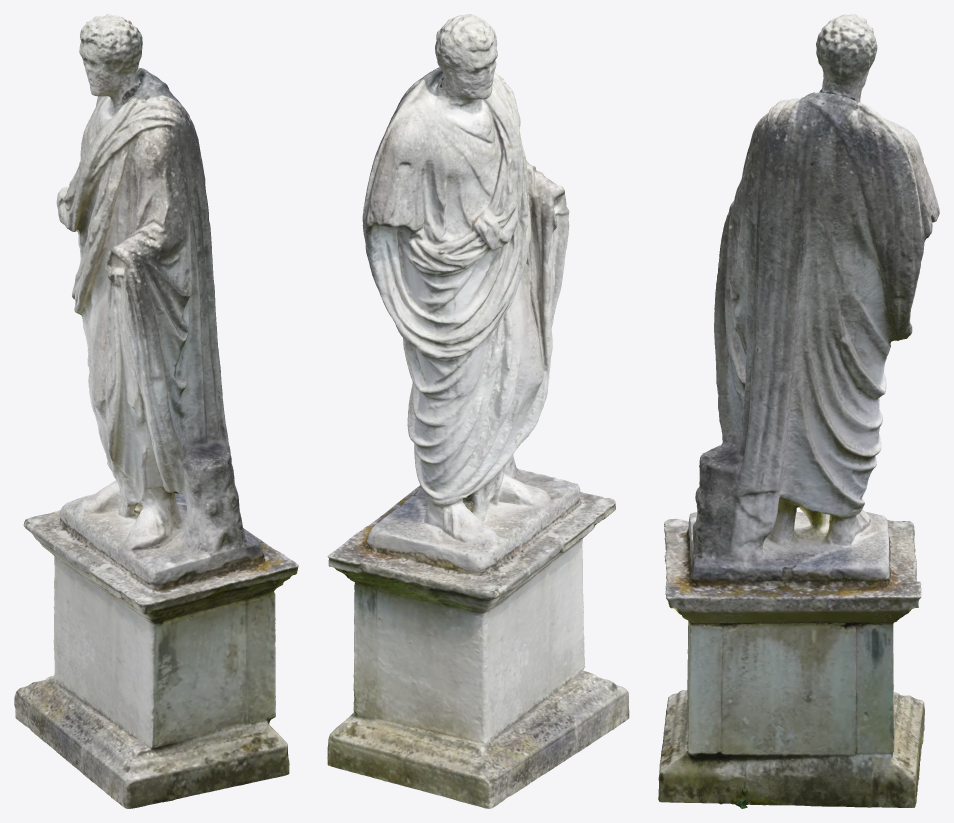
The model's file is statue1.glb.
3 views of the same model, side by side, from view 1: azimuth 30°, elevation 25°; view 2: azimuth 150°, elevation 25°; view 3: azimuth 270°, elevation 25° (orthographic). The views are drawn at different scales.
Parts seen in each view (by area): view 1: Object_2; view 2: Object_2; view 3: Object_2.
Part boxes in pixels (bbox=[...]): Object_2: bbox=[14, 14, 298, 808]; Object_2: bbox=[327, 14, 629, 808]; Object_2: bbox=[658, 14, 939, 808].
Size of the model in its own units: 5.83 by 23.02 by 7.95.
Materials: 1 (1 with a texture image).
